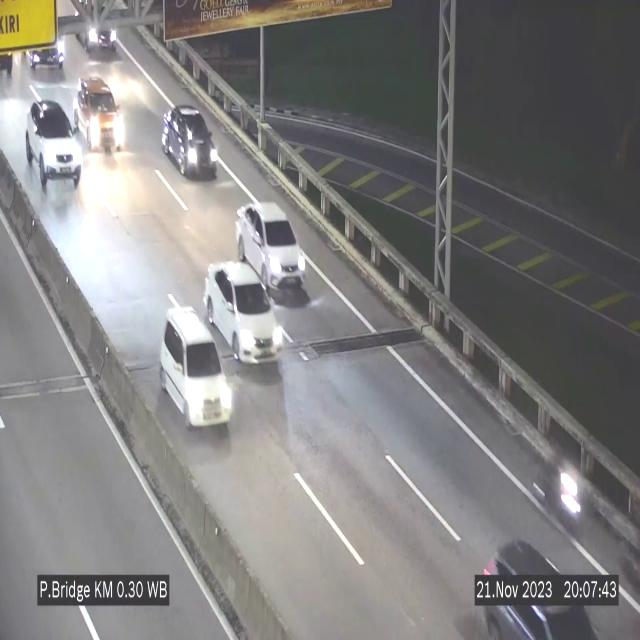Car: (473, 530, 602, 640), (159, 308, 231, 428), (204, 262, 282, 364), (26, 94, 86, 198), (236, 202, 306, 290), (536, 430, 582, 530), (162, 104, 218, 178), (78, 71, 126, 156), (73, 0, 119, 61), (22, 36, 66, 76)
